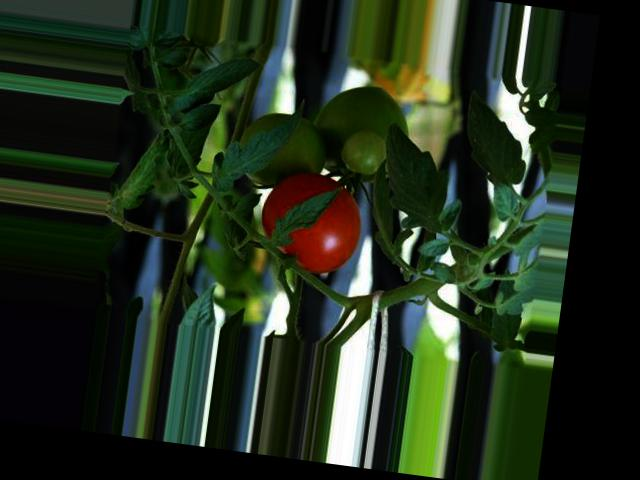tomato: (255, 168, 368, 278)
